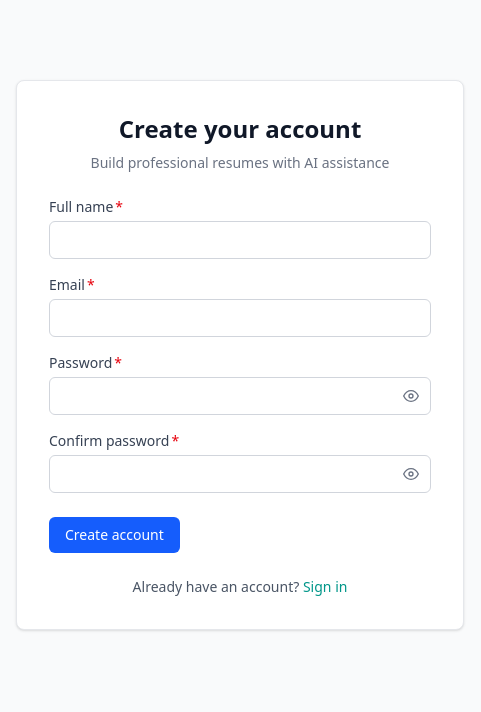
Test: CandidateRegisterPage › displays inline validation errors on 422
The width and height of the screenshot is (481, 712).
In the field labelled "Full name*": (240, 240) left=49, top=221, right=431, bottom=259, type "Jane Doe"
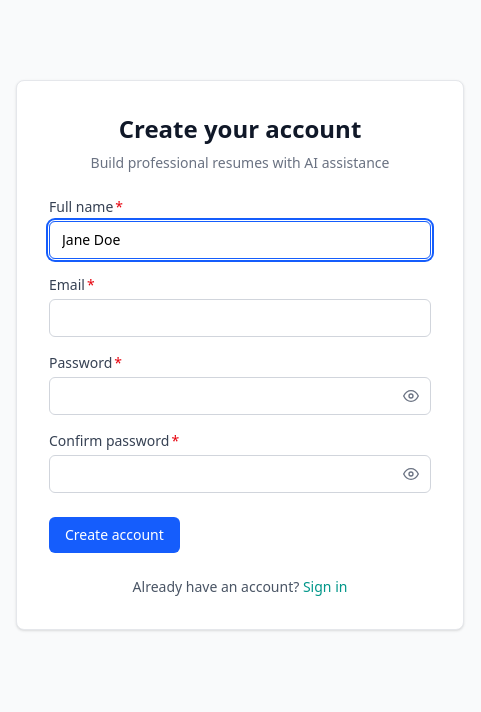
In the field labelled "Email*": (240, 318) left=49, top=299, right=431, bottom=337, type "invalid"
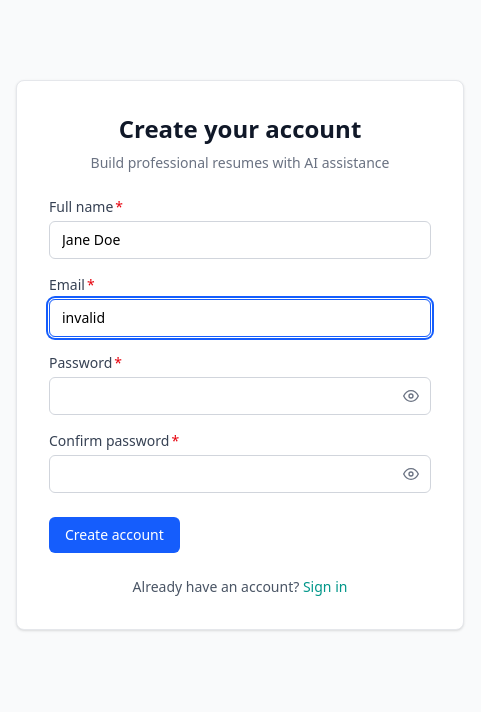
In the password field labelled "Password*": (240, 396) left=49, top=377, right=431, bottom=415, type "SecurePass123!"
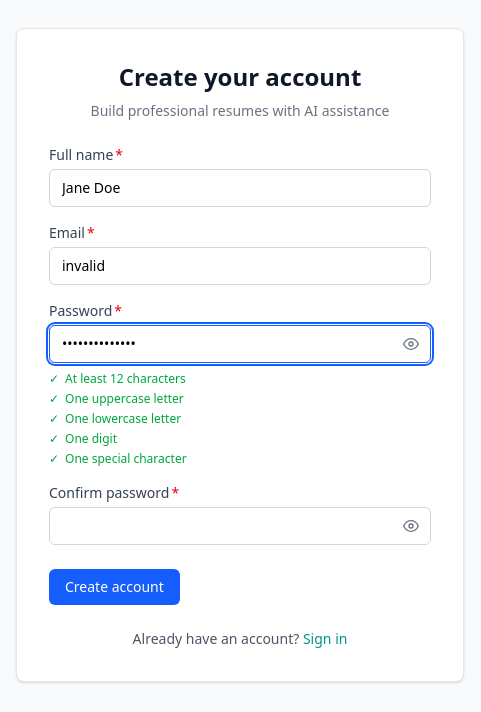
In the password field labelled "Confirm password*": (240, 526) left=49, top=507, right=431, bottom=545, type "SecurePass123!"
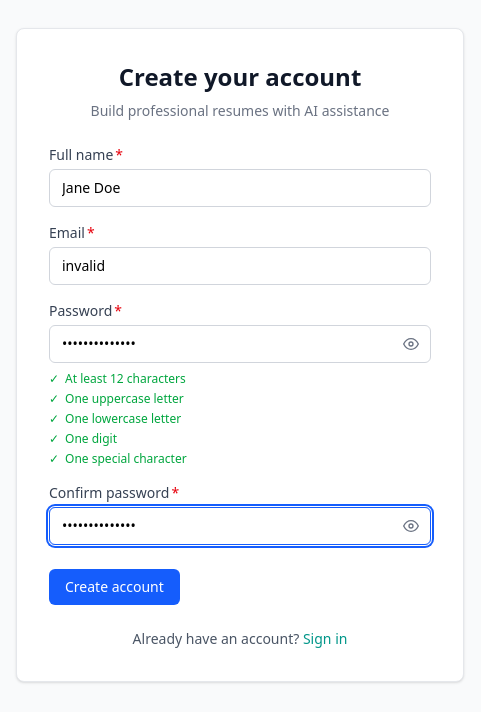
Click the button "Create account": (114, 587) left=49, top=569, right=180, bottom=605
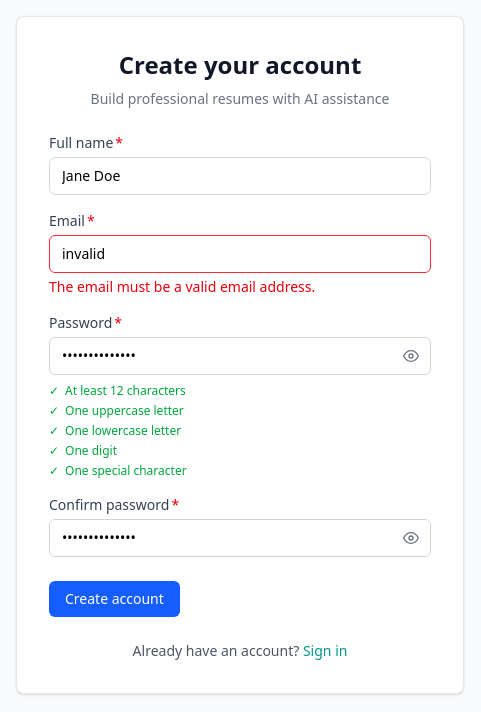
Expected: the text "The email must be a valid email address." is shown, left=49, top=277, right=315, bottom=296
